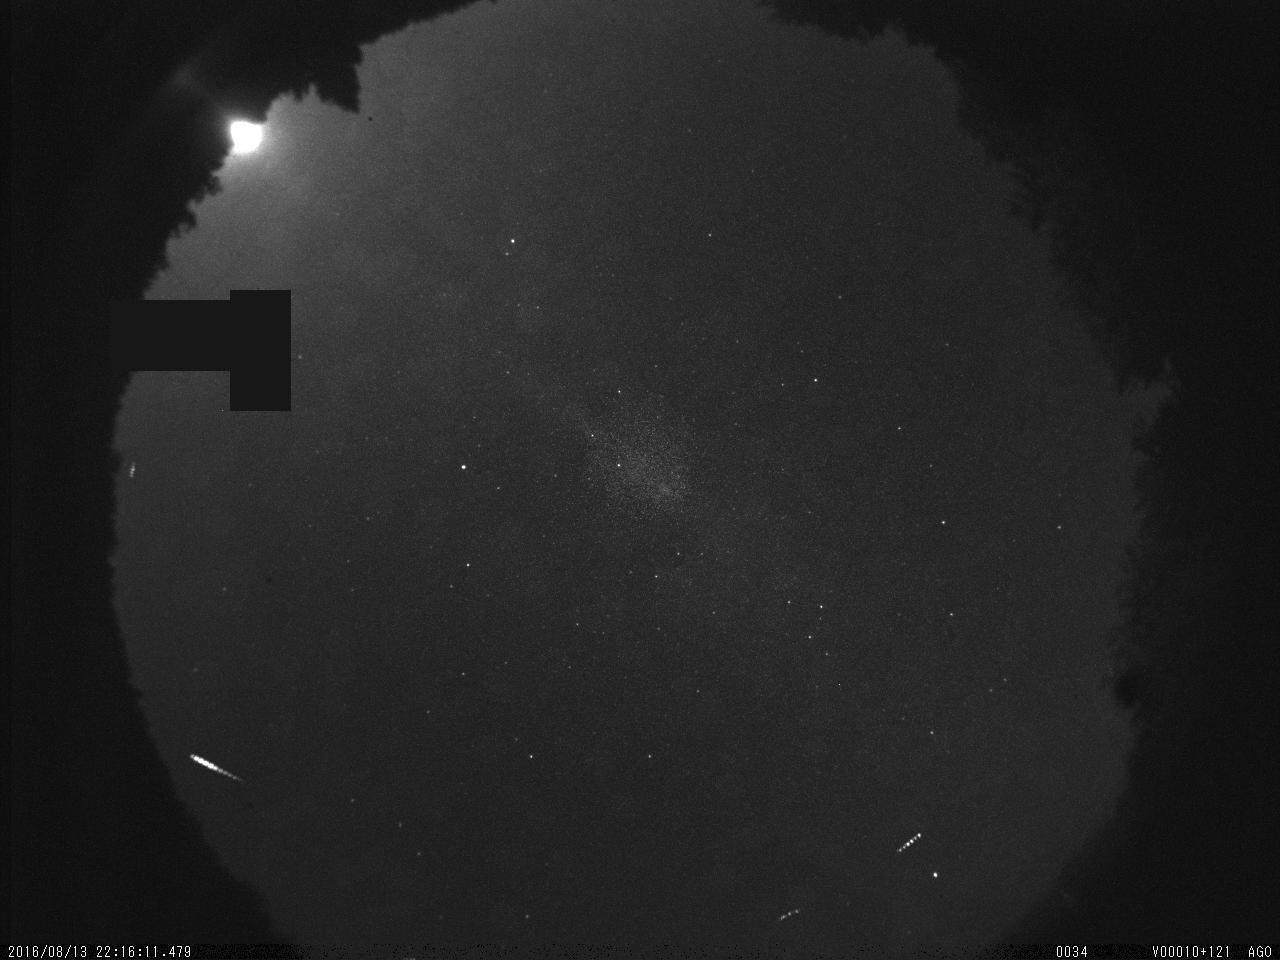meteor: (182, 747, 259, 797)
satelite: (891, 823, 928, 860), (775, 905, 806, 924)
